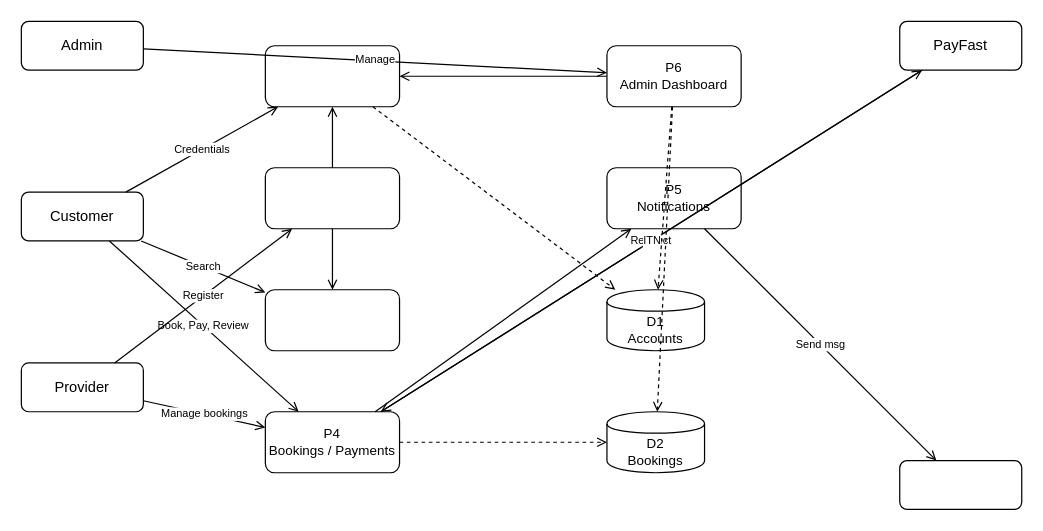
This 1043x531 diagram has some shape labels left out. The centre of each missing label's shape, as x and y in pixels:
P1 Auth / Users: point 332,76
P2 Providers / Docs: point 332,198
P3 Search / Availability: point 332,320
WhatsApp API: point 960,484
